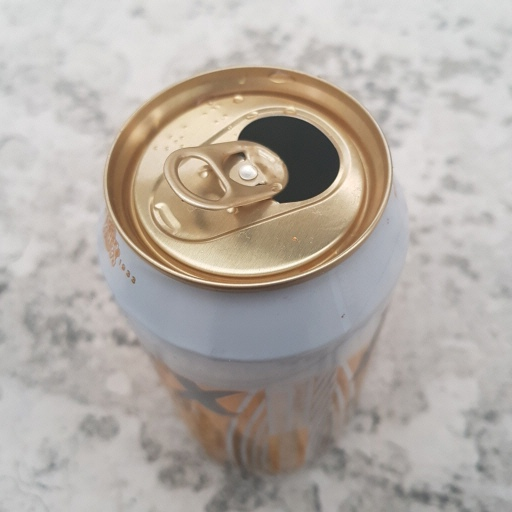Metal_0: (91, 64, 410, 479)
